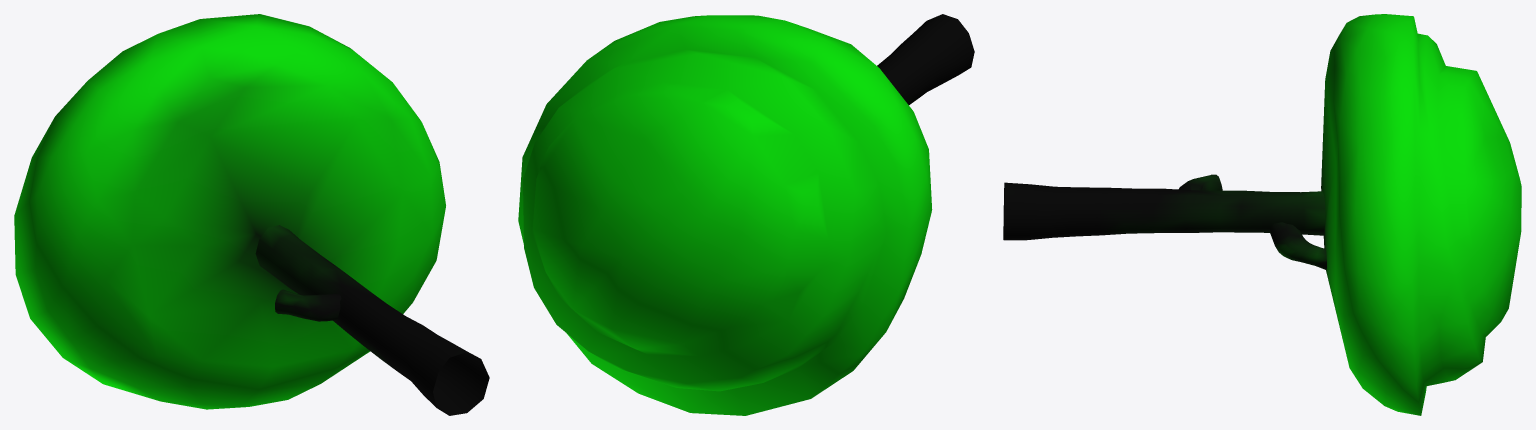
Rendered from Tree_02.fbx.
The picture shows the model from 3 angles, left to right: view 1: azimuth 30°, elevation 25°; view 2: azimuth 150°, elevation 25°; view 3: azimuth 270°, elevation 25°; orthographic projection. The views are drawn at different scales.
Parts seen in each view (by area): view 1: Tree_02_LOD0; view 2: Tree_02_LOD0; view 3: Tree_02_LOD0.
Boxes of the visible parts, x1=… form: Tree_02_LOD0: x1=14, y1=14, x2=489, y2=415; Tree_02_LOD0: x1=518, y1=14, x2=974, y2=415; Tree_02_LOD0: x1=1003, y1=14, x2=1521, y2=415.
Size of what is drawn, in the model's own units: 7.34 by 6.81 by 9.42.
